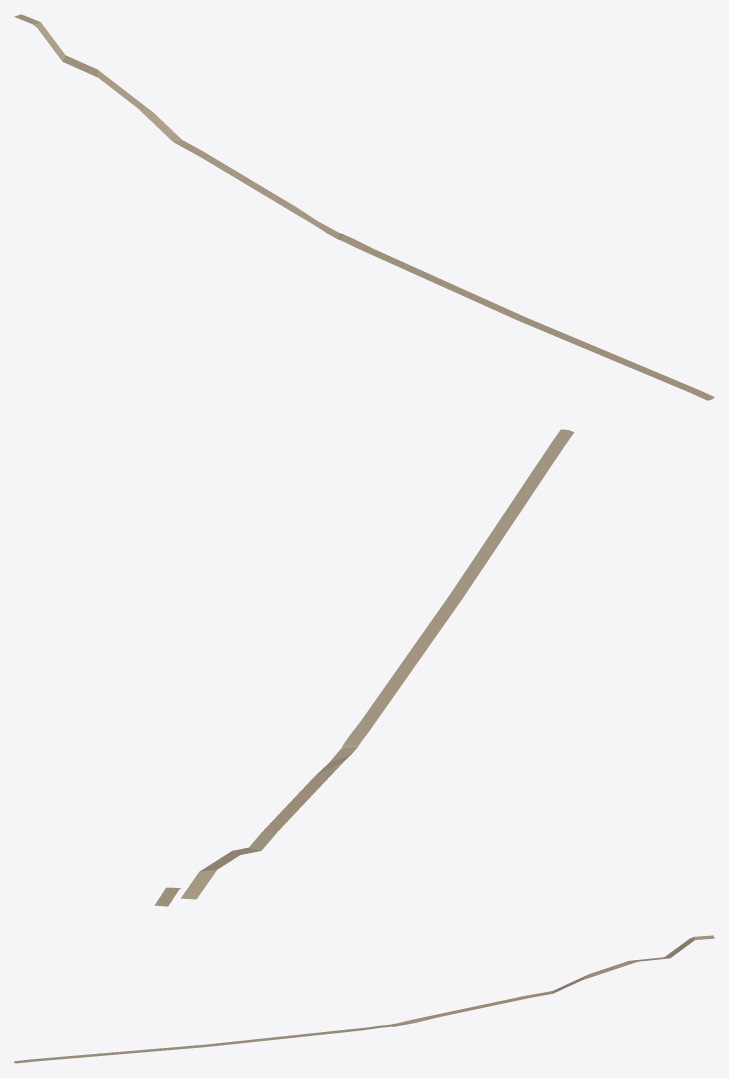
The model's file is farm_-10_12_track.glb.
3 renders of one model, top to bottom at view 1: azimuth 30°, elevation 25°; view 2: azimuth 150°, elevation 25°; view 3: azimuth 270°, elevation 25°, orthographic. The views are drawn at different scales.
Parts seen in each view (by area): view 1: geometry_0; view 2: geometry_0; view 3: geometry_0.
Part boxes in pixels (left/top/right/bottom): geometry_0: left=14, top=14, right=714, bottom=400; geometry_0: left=154, top=429, right=573, bottom=906; geometry_0: left=14, top=935, right=714, bottom=1063.
Size of the model in its own units: 81.17 by 29.45 by 323.
